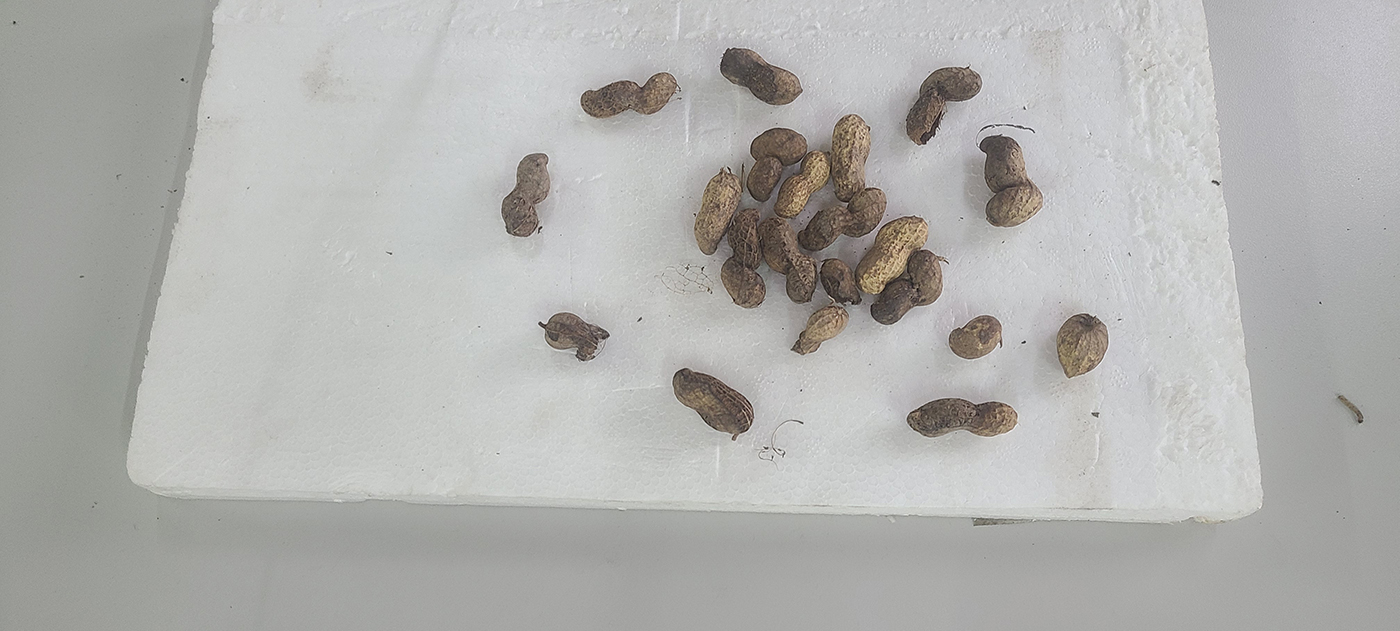l: (980, 133, 1045, 226), (906, 68, 983, 144), (798, 188, 888, 252), (869, 250, 943, 327), (855, 216, 928, 294), (673, 368, 753, 433), (760, 218, 818, 303), (720, 47, 803, 105), (580, 72, 678, 118), (722, 209, 767, 308), (907, 398, 1018, 438), (501, 153, 551, 236), (694, 171, 742, 256), (776, 149, 831, 216), (833, 114, 871, 200), (1058, 313, 1109, 377), (545, 311, 610, 361), (793, 303, 849, 355), (949, 314, 1002, 359), (750, 126, 807, 164), (820, 258, 862, 305), (746, 156, 784, 201)
